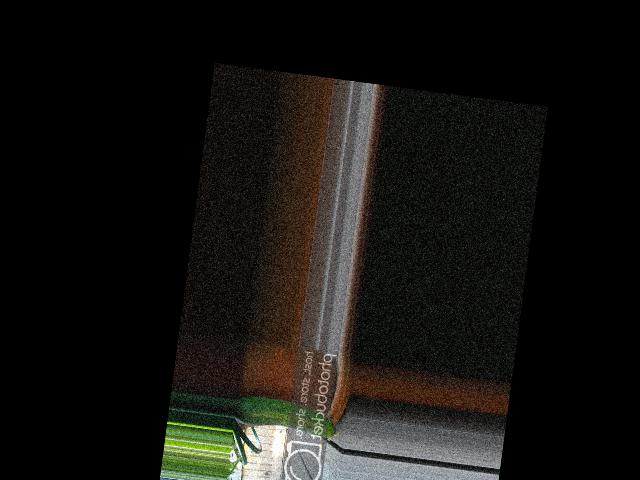cucumber: (234, 394, 343, 439)
